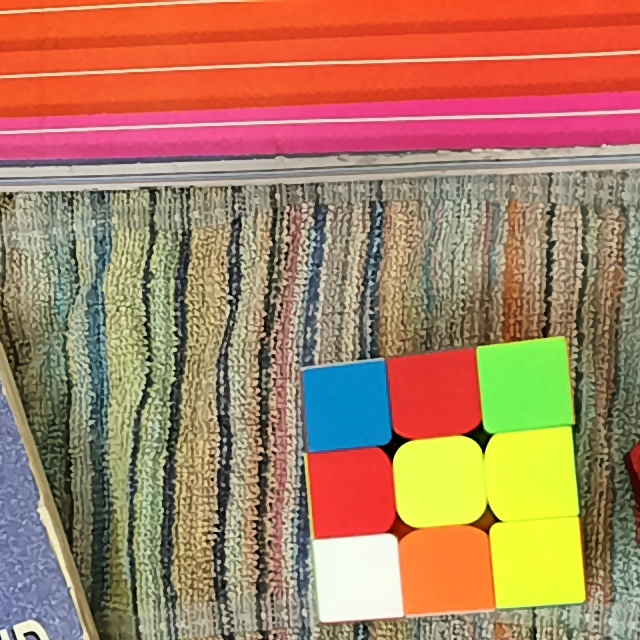tile: (501, 437, 572, 512), (489, 348, 563, 419), (502, 525, 576, 596), (316, 456, 385, 530), (400, 358, 472, 428), (409, 538, 485, 604), (323, 543, 394, 613), (310, 372, 382, 441), (406, 448, 475, 517)
